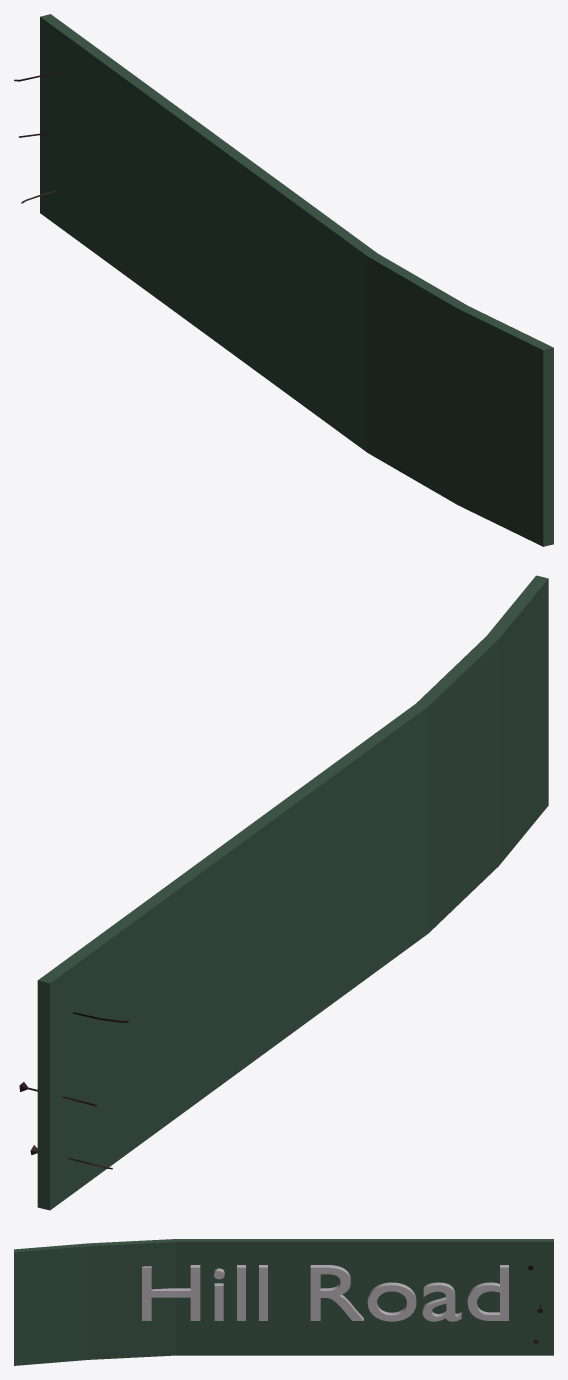
The model's file is NEW SIGN.fbx.
3 renders of one model, top to bottom at view 1: azimuth 30°, elevation 25°; view 2: azimuth 150°, elevation 25°; view 3: azimuth 270°, elevation 25°, orthographic. The views are drawn at different scales.
Parts seen in each view (by area): view 1: Cube; view 2: Cube; view 3: Cube, Text.
Part boxes in pixels (x1=…): Cube: x1=14, y1=14, x2=553, y2=546; Cube: x1=19, y1=575, x2=548, y2=1210; Cube: x1=14, y1=1239, x2=553, y2=1365; Text: x1=142, y1=1265, x2=508, y2=1321.
Bounding box in the file's own units: 22.5 × 45.35 × 195.
